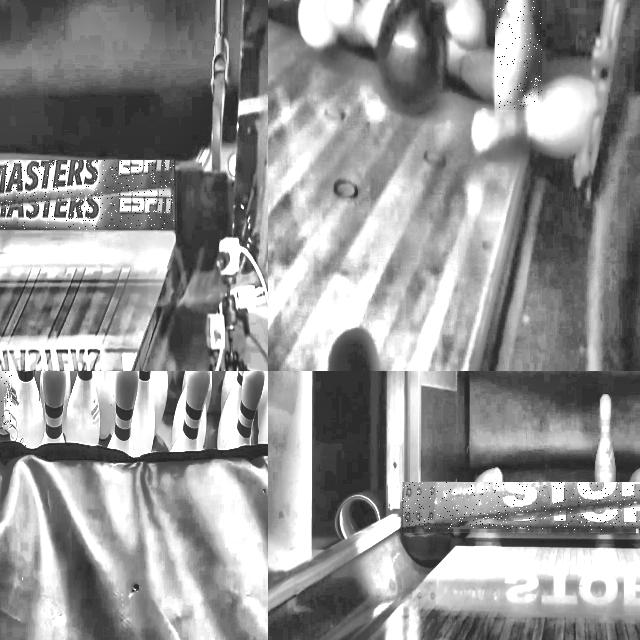bowling-pins: (376, 0, 447, 114), (495, 0, 535, 108), (227, 371, 265, 450), (173, 371, 210, 451), (9, 371, 45, 448), (109, 371, 139, 456), (66, 371, 100, 445), (40, 371, 70, 444), (131, 371, 156, 457), (596, 394, 616, 485), (94, 371, 116, 439), (151, 371, 169, 431)
sweep board: (402, 483, 640, 530), (0, 160, 176, 210)
